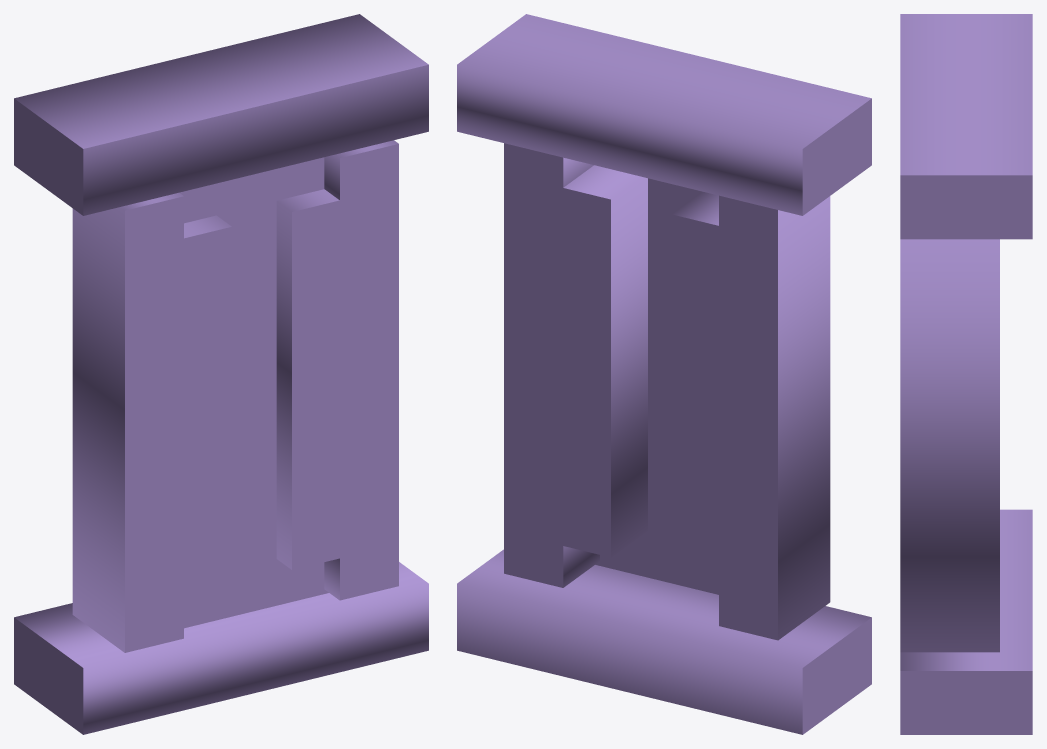
File: wallDeco_b.fbx
3 views of the same model, side by side, from view 1: azimuth 30°, elevation 25°; view 2: azimuth 150°, elevation 25°; view 3: azimuth 270°, elevation 25° (orthographic). The views are drawn at different scales.
Visible parts, largest first — view 1: Cube.006; view 2: Cube.006; view 3: Cube.006.
Boxes of the visible parts, x1,y1,x2,y2 form: Cube.006: (14,14,428,734); Cube.006: (457,14,871,734); Cube.006: (900,14,1032,734).
Bounding box in the file's own units: 1.27 × 2.06 × 0.4408.
